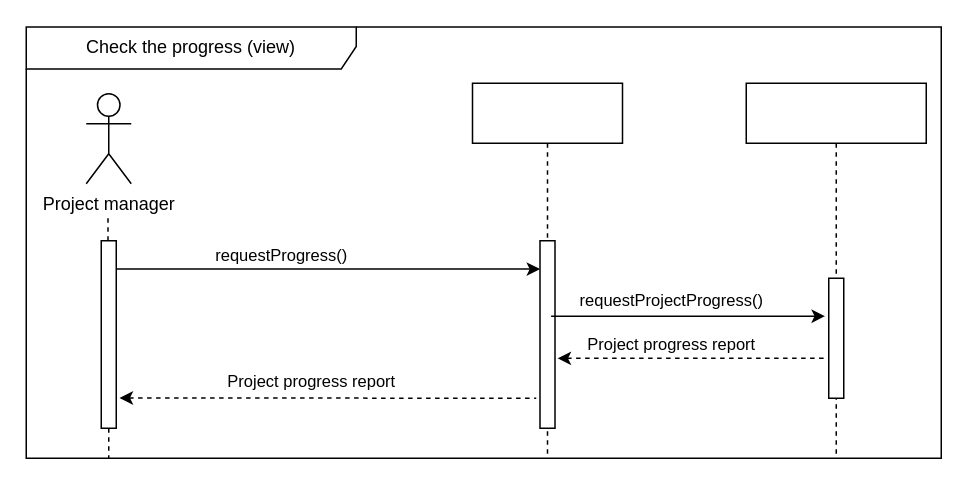
Image size: 968x486. Some labels were removed from this diagram. Here are the shapes that lost their labels. From the top down, the centre of each, then its label:
pixel 546 270: System
pixel 835 270: ProjectDatabase
